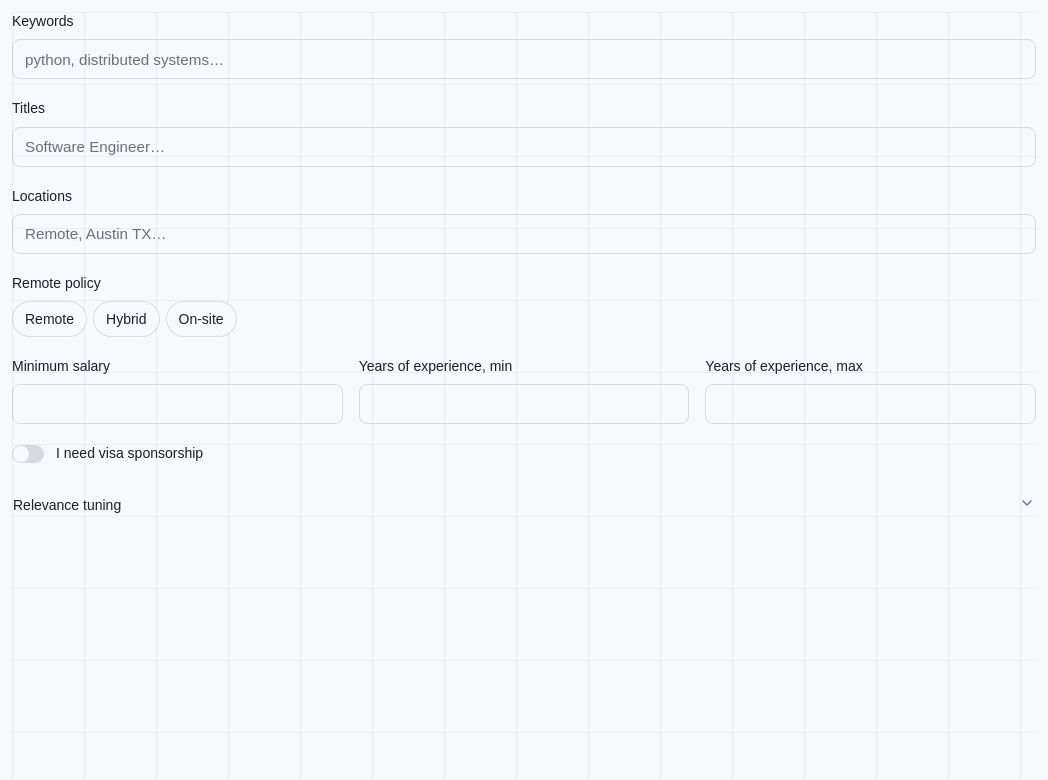
it: SearchConfigForm › selects multiple remote policy options and can deselect one back off
This screenshot has width=1048, height=780.
Click the button "Remote": (50, 319) [12,301,87,337]
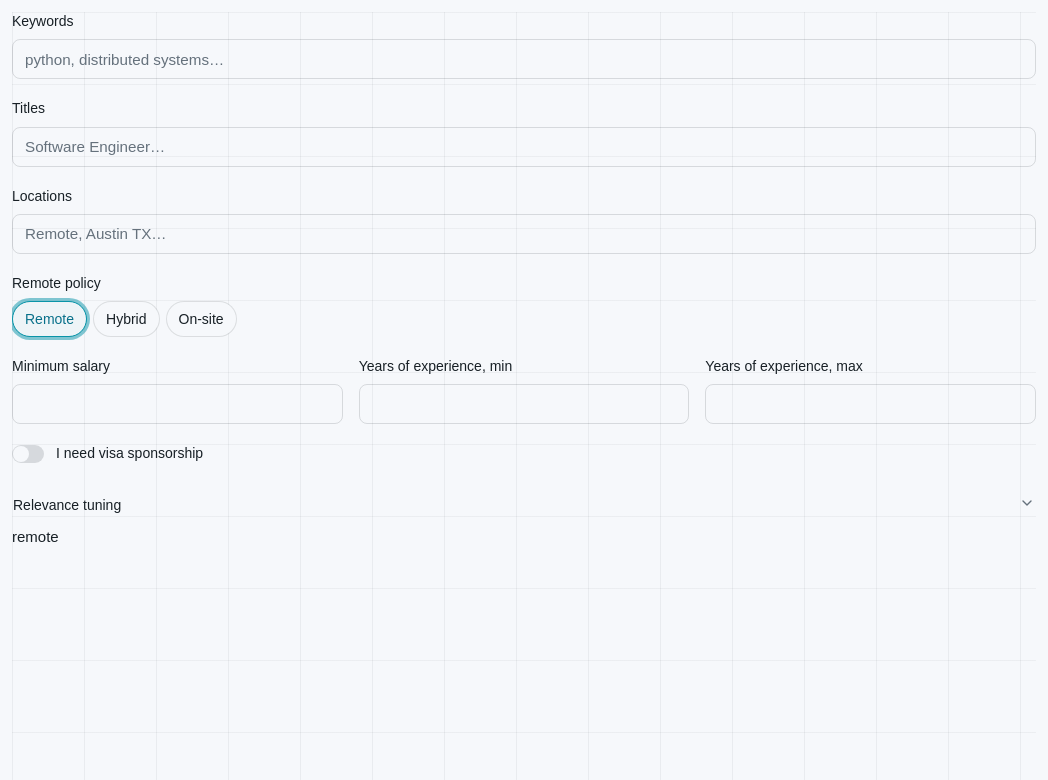
Check: the text with test id "remote-policy" reads "remote", box [12,528,59,544]
Click the button "Hybrid": (126, 319) [93,301,160,337]
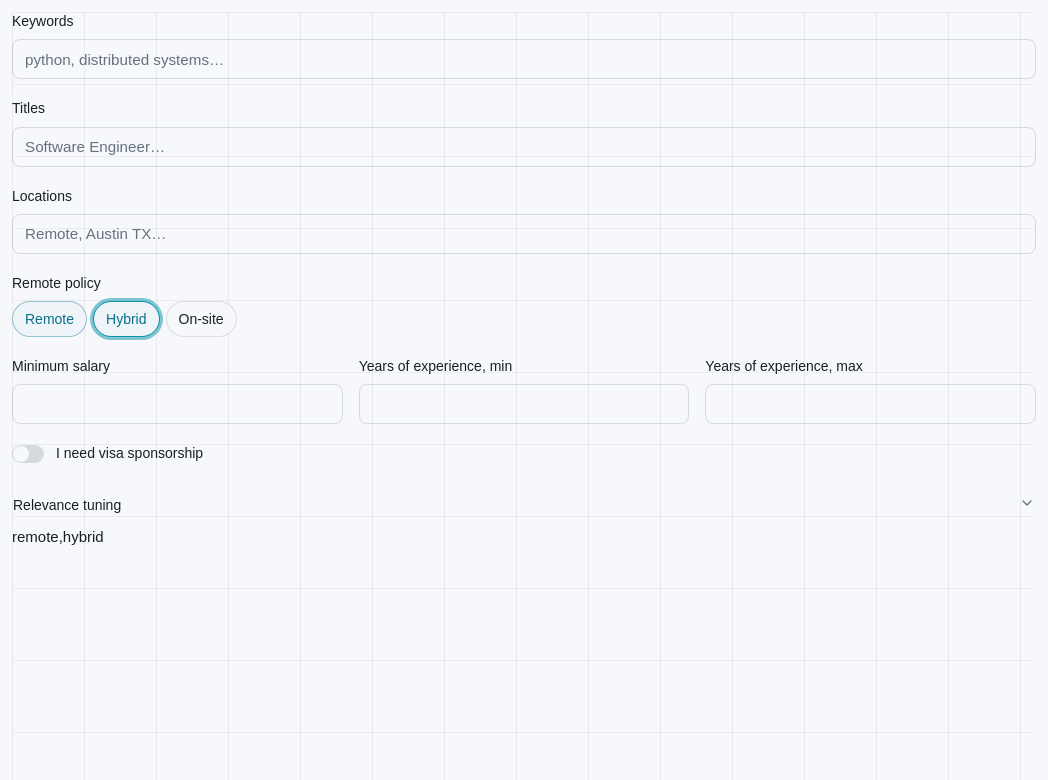
Check: the text with test id "remote-policy" reads "remote,hybrid", box [12,528,104,544]
Click the button "Remote": (50, 319) [12,301,87,337]
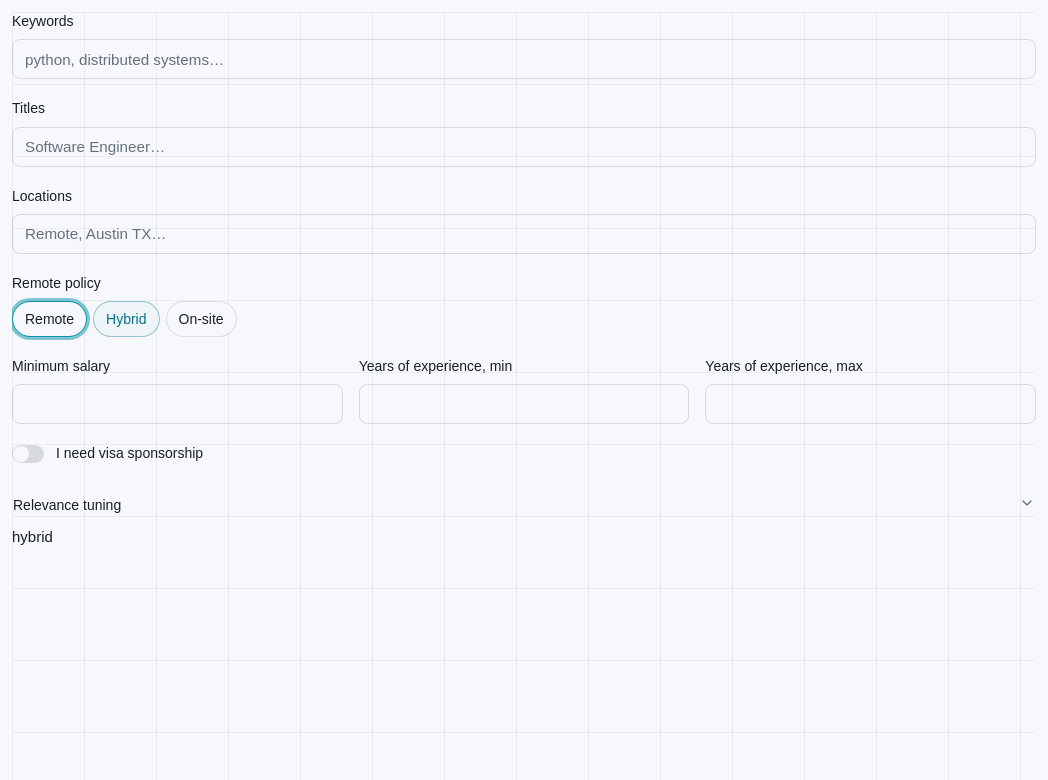
Check: the text with test id "remote-policy" reads "hybrid", box [12,528,53,544]
